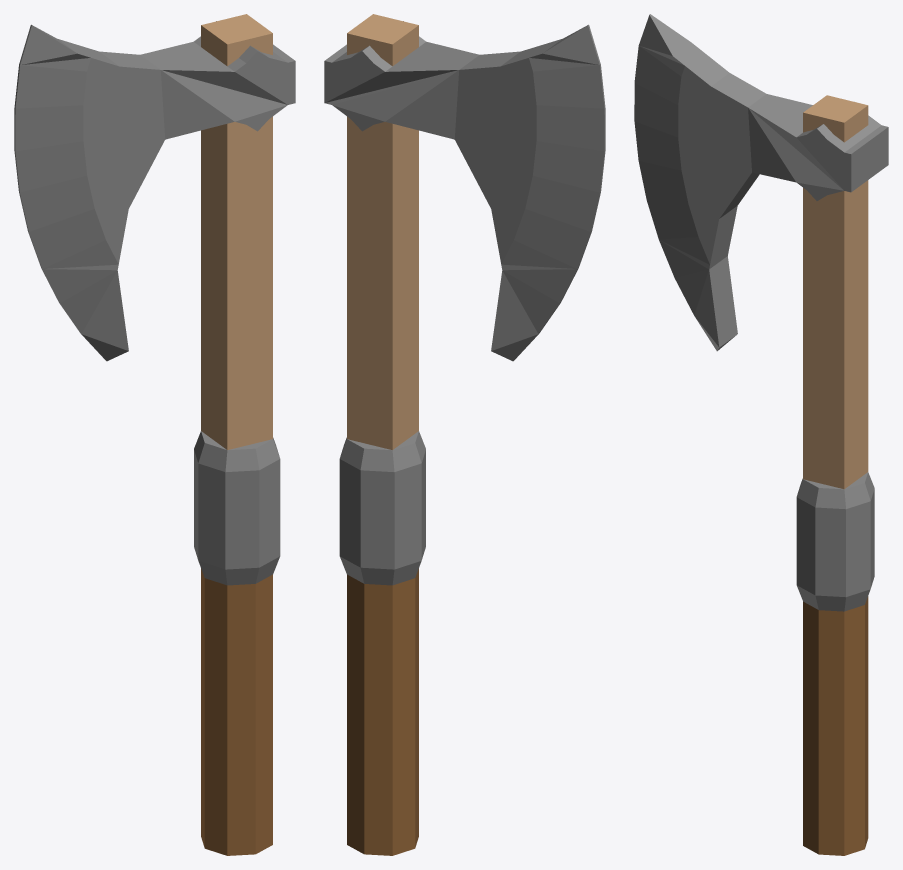
The picture shows the model from 3 angles, left to right: view 1: azimuth 30°, elevation 25°; view 2: azimuth 150°, elevation 25°; view 3: azimuth 330°, elevation 25°; orthographic projection. The views are drawn at different scales.
Parts seen in each view (by area): view 1: Group5, Group4, Group2, Group3; view 2: Group5, Group4, Group2, Group3; view 3: Group5, Group4, Group2, Group3.
Part boxes in pixels (x1,y1,x2,y2): Group5: [14, 21, 295, 361]; Group4: [201, 14, 272, 449]; Group2: [201, 568, 272, 855]; Group3: [194, 431, 280, 585]; Group5: [324, 21, 605, 361]; Group4: [347, 14, 418, 449]; Group2: [347, 568, 418, 855]; Group3: [339, 431, 425, 585]; Group5: [634, 14, 888, 351]; Group4: [803, 95, 868, 489]; Group2: [803, 596, 868, 855]; Group3: [796, 472, 874, 611].
Bounding box in the file's own units: 202 × 640 × 60.
